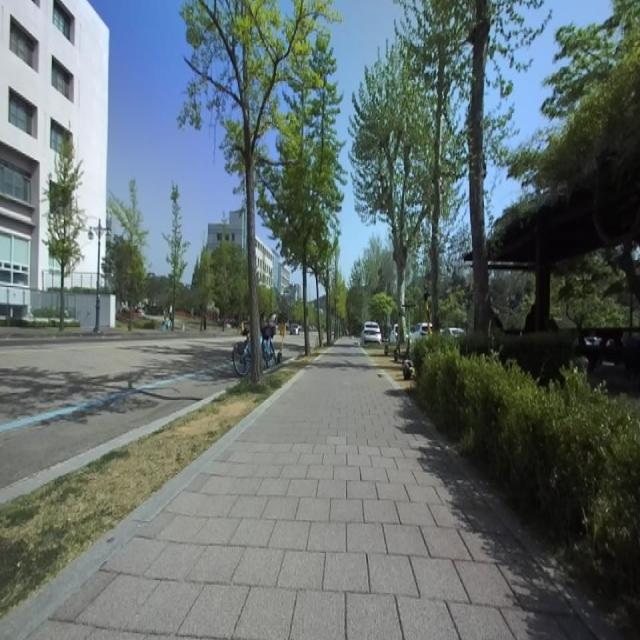sidewalk: (0, 338, 619, 639)
